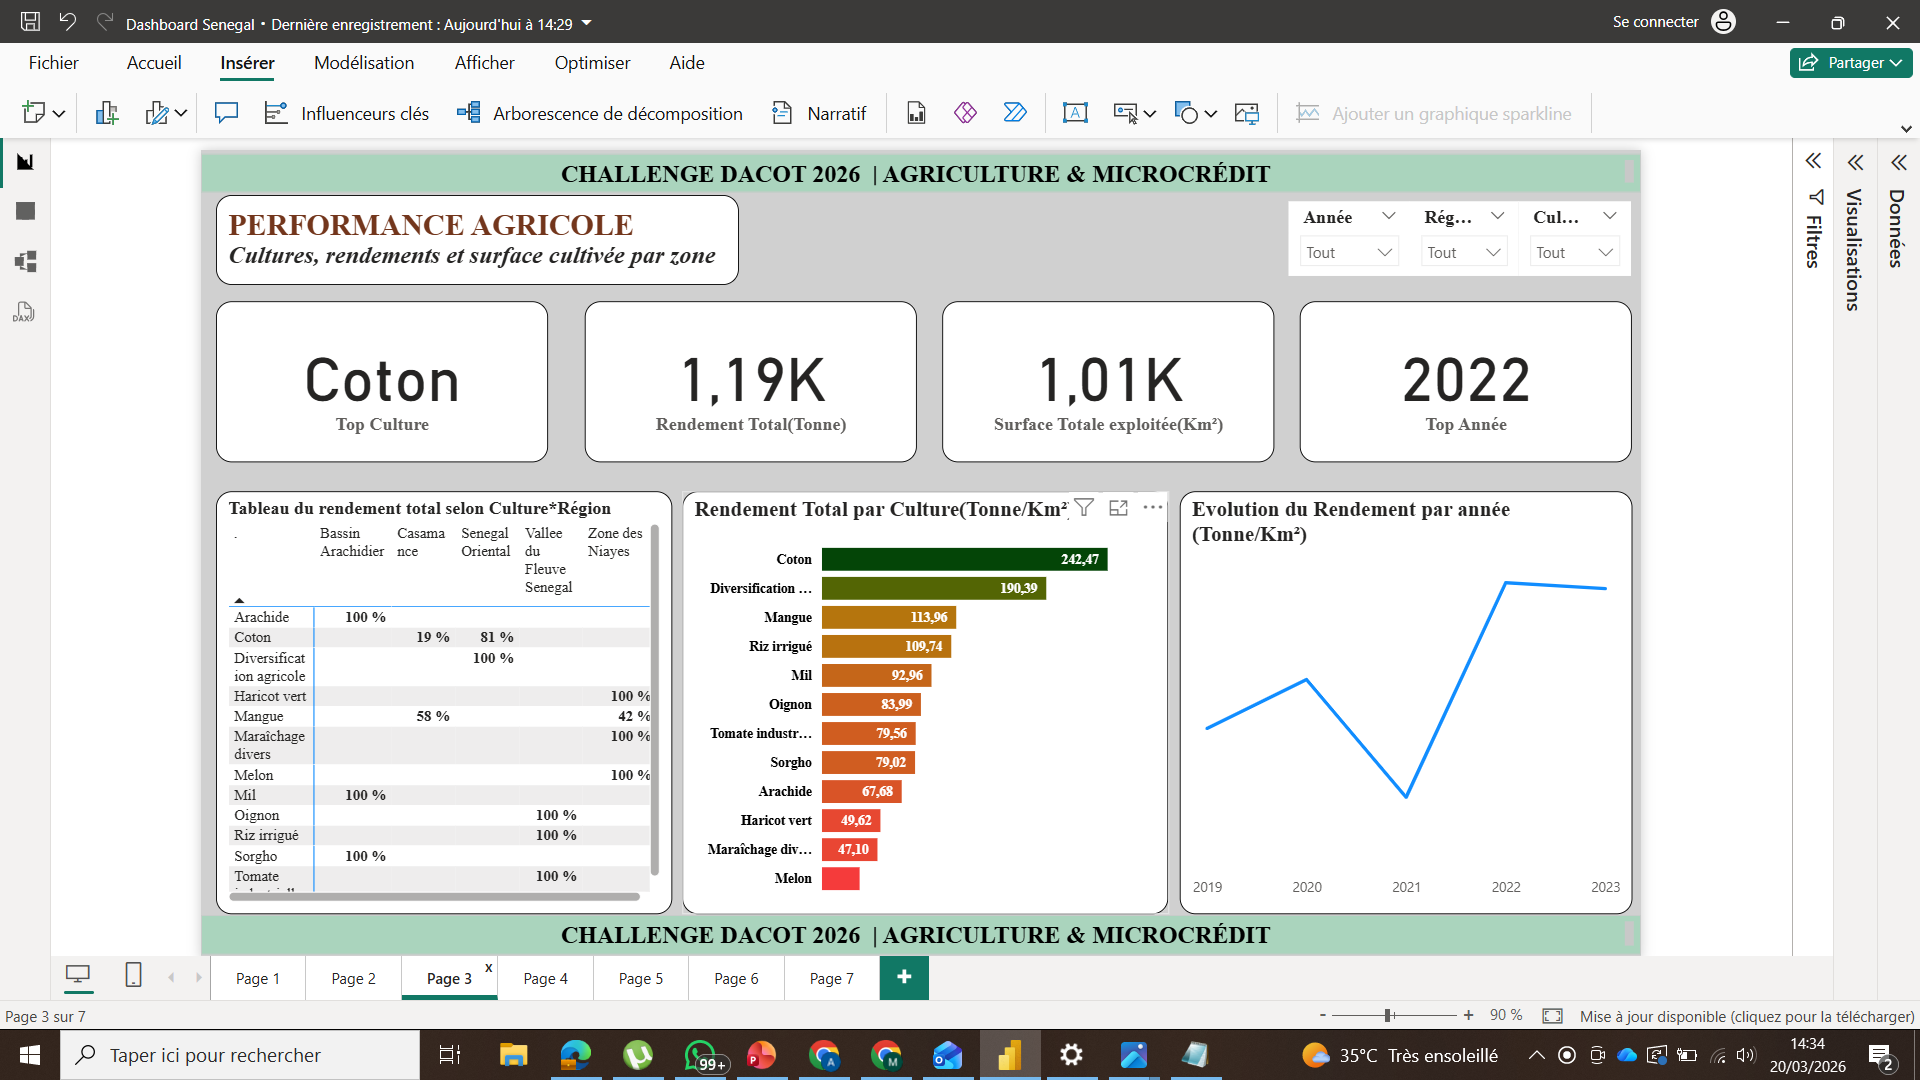

Layout of this report page (visuals, bound fields, positions):
{"tool":"powerbi","page":{"name":"Page 3","canvas":[1280,720],"ordinal":2},"visuals":[{"type":"textbox","box":[0,3.3,1280,34.4],"z":0},{"type":"textbox","box":[13.3,40,464.4,80],"z":1000},{"type":"barChart","fields":{"Category":["DimCulture.nom_culture"],"Y":["Sum(FaitAgriculture.rendement)"]},"box":[428.1,303.3,432.2,376],"z":3000},{"type":"textbox","box":[0,680,1280,35],"z":3500},{"type":"pivotTable","title":"Tableau du rendement total selon Culture*Région","fields":{"Rows":["DimCulture.nom_culture"],"Columns":["DimRegion.nom_region"],"Values":["Sum(FaitAgriculture.rendement)"]},"box":[13.1,303.6,406,376.2],"z":4000},{"type":"lineChart","fields":{"Category":["FaitAgriculture.annee"],"Y":["Sum(FaitAgriculture.rendement)"]},"box":[870,303.3,402.1,376],"z":5000},{"type":"slicer","fields":{"Values":["FaitAgriculture.annee"]},"box":[966.7,45.2,108.2,66.1],"z":6000},{"type":"card","fields":{"Values":["FaitAgriculture.Top Culture"]},"box":[13.7,134.5,295.3,142.9],"z":6000,"group":"g1"},{"type":"slicer","fields":{"Values":["DimRegion.nom_region"]},"box":[1074.7,45.2,96.9,66.7],"z":7000},{"type":"card","fields":{"Values":["Sum(FaitAgriculture.rendement)"]},"box":[341.4,134.5,295.3,142.9],"z":7000,"group":"g1"},{"type":"slicer","fields":{"Values":["DimCulture.nom_culture"]},"box":[1171.4,45.2,100,66.7],"z":8000},{"type":"card","fields":{"Values":["Sum(FaitAgriculture.surface_km2)"]},"box":[659.1,134.5,295.3,142.9],"z":8000,"group":"g1"},{"type":"group","id":"g1","title":"Groupe 1","box":[13.7,134.5,1258.3,144.1],"z":9000},{"type":"card","fields":{"Values":["FaitAgriculture.Top Année"]},"box":[976.7,134.5,295.3,142.9],"z":9000,"group":"g1"}]}

Visuals, with their boxes on the page's 1280x720 design canvas (x1, y1, x2, y2). These are canvas units, not pixel positions in the 1920x1080 screenshot, which may show the page scaled, cropped or inside an application window:
textbox: (left=0, top=3, right=1280, bottom=38)
textbox: (left=13, top=40, right=478, bottom=120)
barChart - DimCulture.nom_culture x Sum(FaitAgriculture.rendement): (left=428, top=303, right=860, bottom=679)
textbox: (left=0, top=680, right=1280, bottom=715)
"Tableau du rendement total selon Culture*Région" pivotTable: (left=13, top=304, right=419, bottom=680)
lineChart - FaitAgriculture.annee x Sum(FaitAgriculture.rendement): (left=870, top=303, right=1272, bottom=679)
slicer - FaitAgriculture.annee: (left=967, top=45, right=1075, bottom=111)
card - FaitAgriculture.Top Culture: (left=14, top=134, right=309, bottom=277)
slicer - DimRegion.nom_region: (left=1075, top=45, right=1172, bottom=112)
card - Sum(FaitAgriculture.rendement): (left=341, top=134, right=637, bottom=277)
slicer - DimCulture.nom_culture: (left=1171, top=45, right=1271, bottom=112)
card - Sum(FaitAgriculture.surface_km2): (left=659, top=134, right=954, bottom=277)
"Groupe 1" group: (left=14, top=134, right=1272, bottom=279)
card - FaitAgriculture.Top Année: (left=977, top=134, right=1272, bottom=277)
